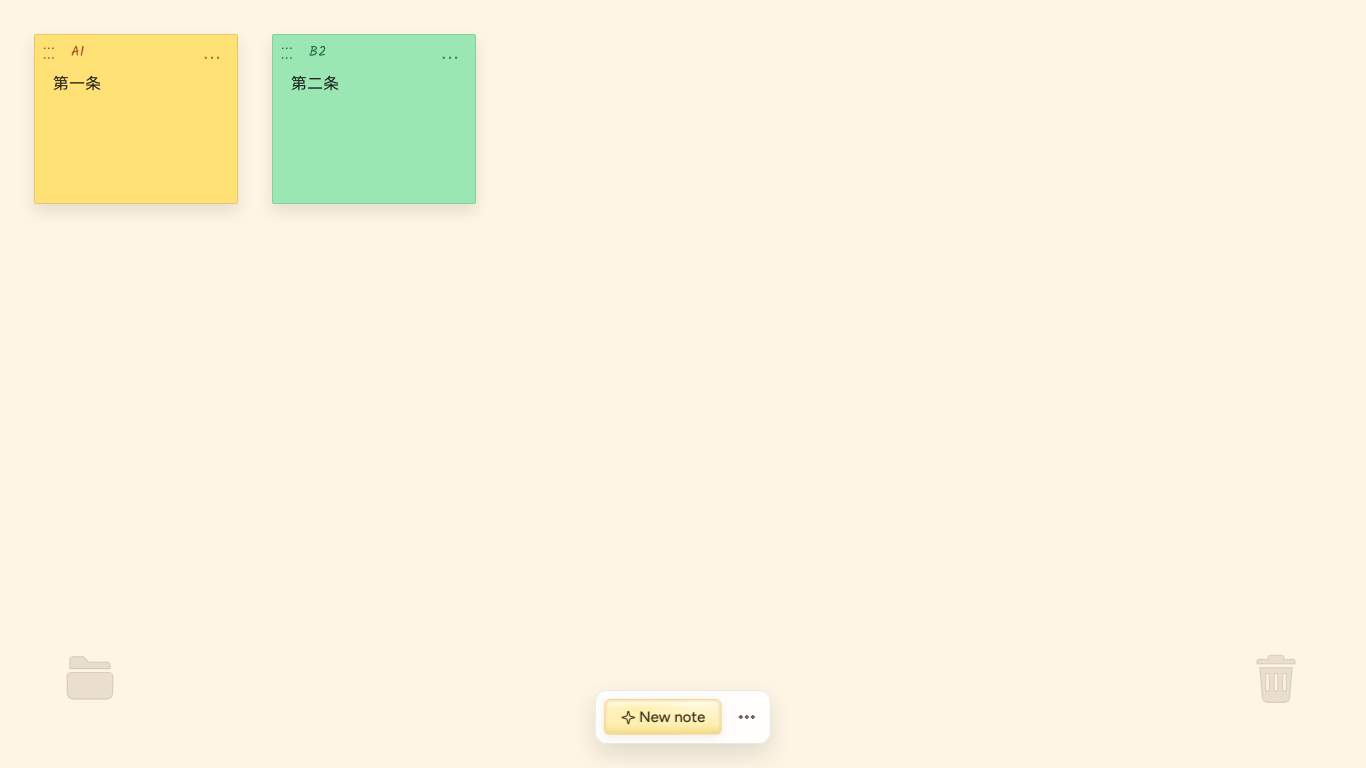
Test: LocalNotes › clears all notes only after confirming in a dialog
Expected: the text "第一条" is shown, [53,75,102,92]
Hover over the element named "More actions" at (747, 717), box [732,703,762,731]
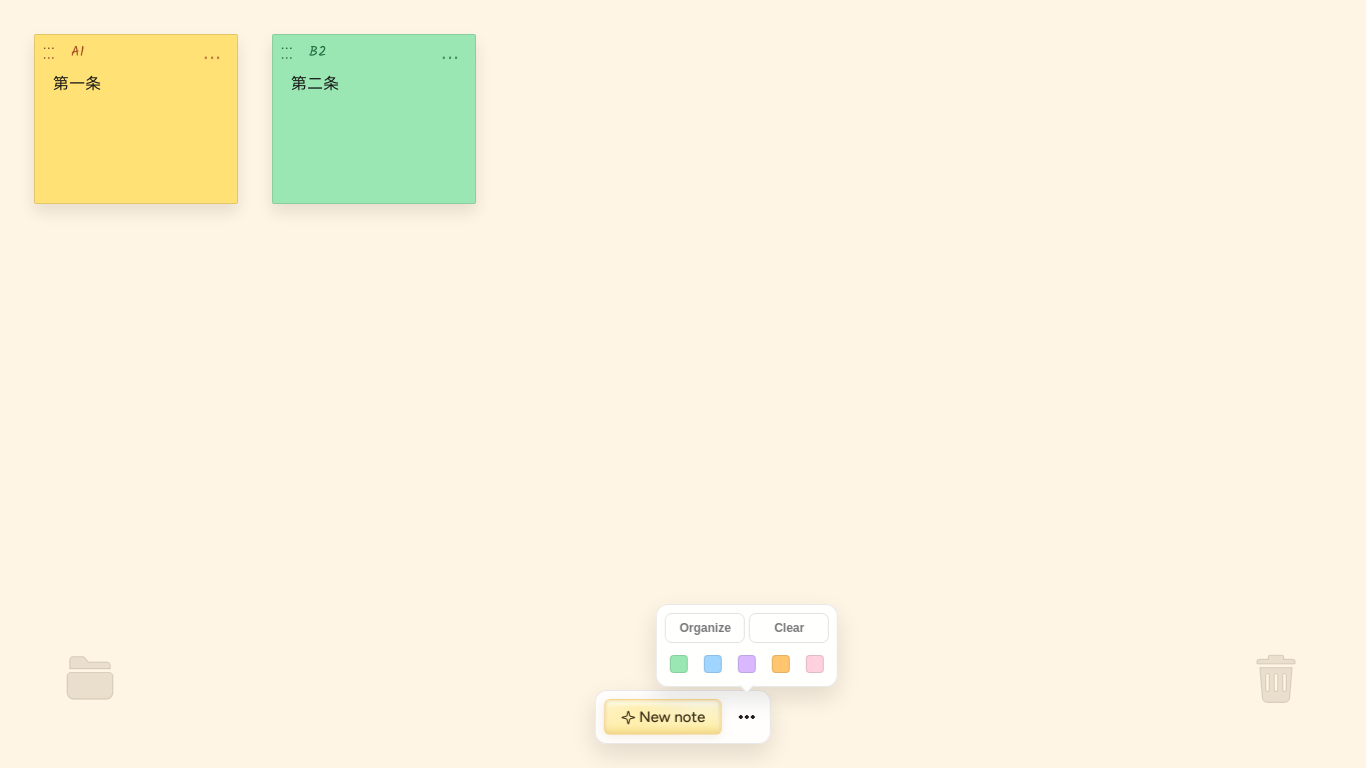
Click the button with aria-label "Clear all notes". click: (789, 628)
box: [749,613,829,643]
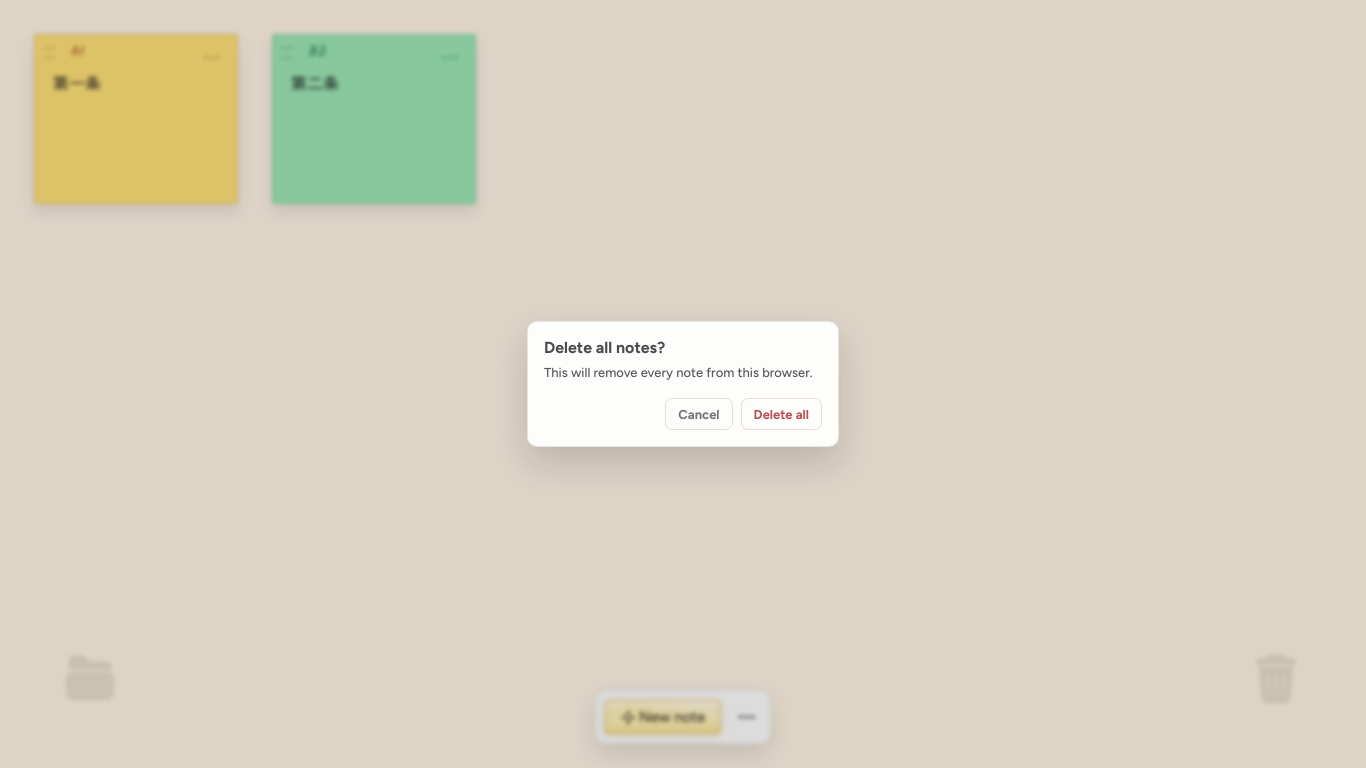
Expected: the text "第一条" is shown, [53,75,102,92]
Result: the dialog "Delete all notes?" is shown at [527,321,839,447]
Result: the text "This will remove every note from this browser." is shown at [544,364,822,382]
Click the button "Delete all". click: (781, 414)
box: [741,398,822,430]
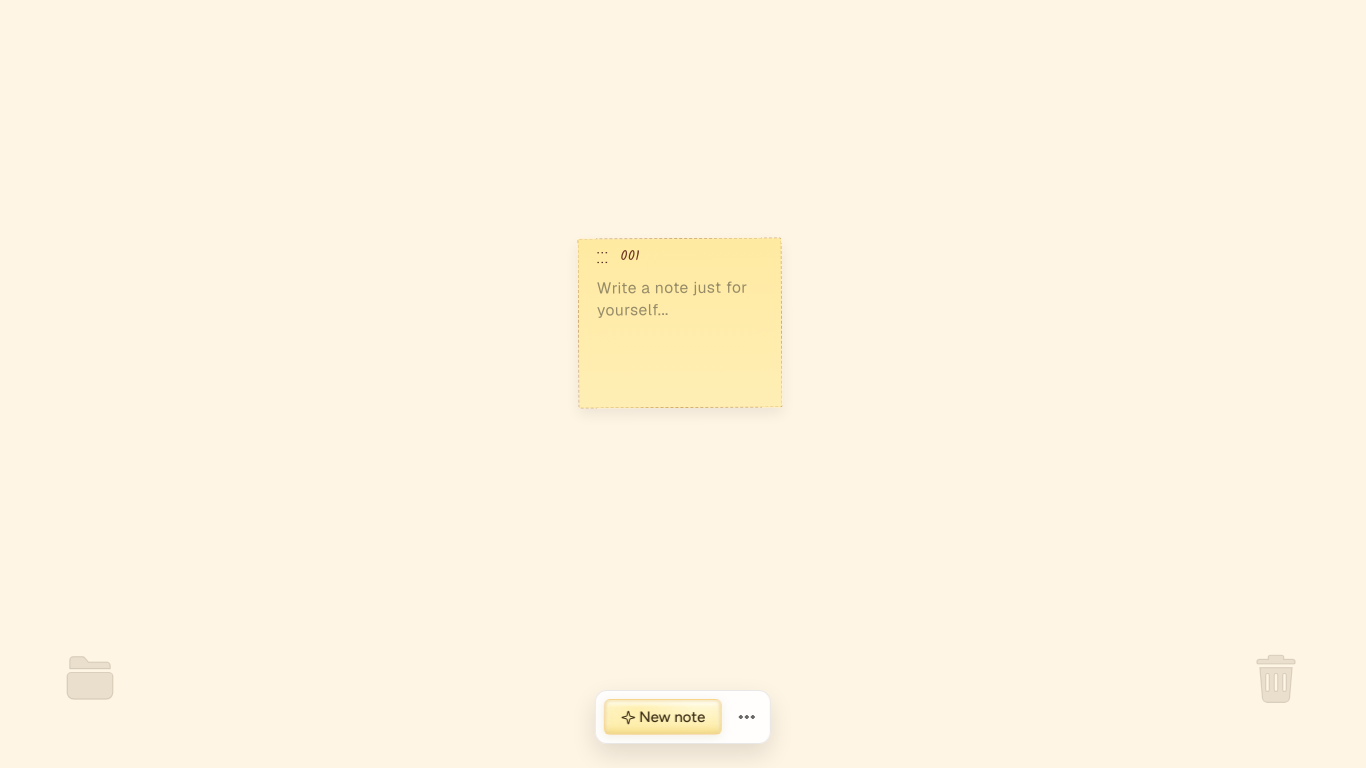
Result: the button "第一条" is gone
Result: the button "第二条" is gone
